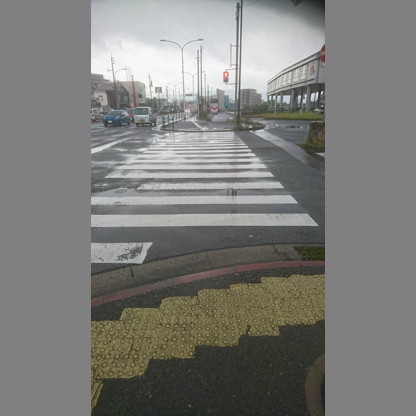brailleblock: (92, 272, 322, 384)
crosswalk: (91, 172, 273, 237), (136, 152, 253, 193), (152, 141, 250, 179)
signal: (223, 71, 228, 83)
